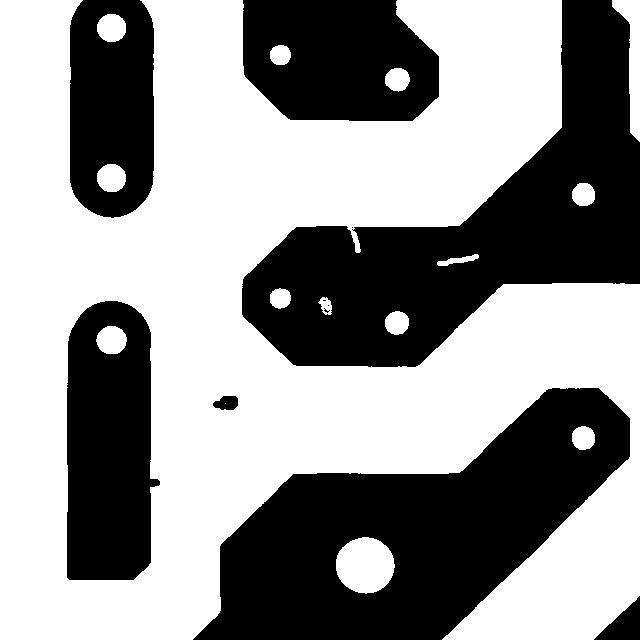copper: (203, 386, 247, 419)
mousebite: (337, 217, 370, 262)
pin-hole: (427, 244, 488, 275), (308, 287, 341, 324)
spur: (135, 469, 169, 496)
